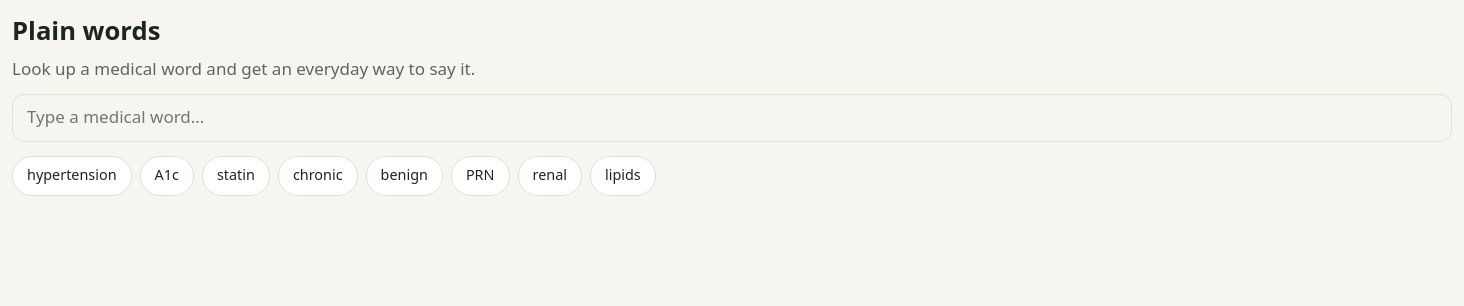
Test: Plain words lookup › a misspelled word finds the dictionary entry, without asking the server
Step 1. Type "hypertention" into the search field with placeholder "Type a medical word…" → point(732, 118), box top-left (12, 94), bottom-right (1452, 142)
Wait 1000 ms
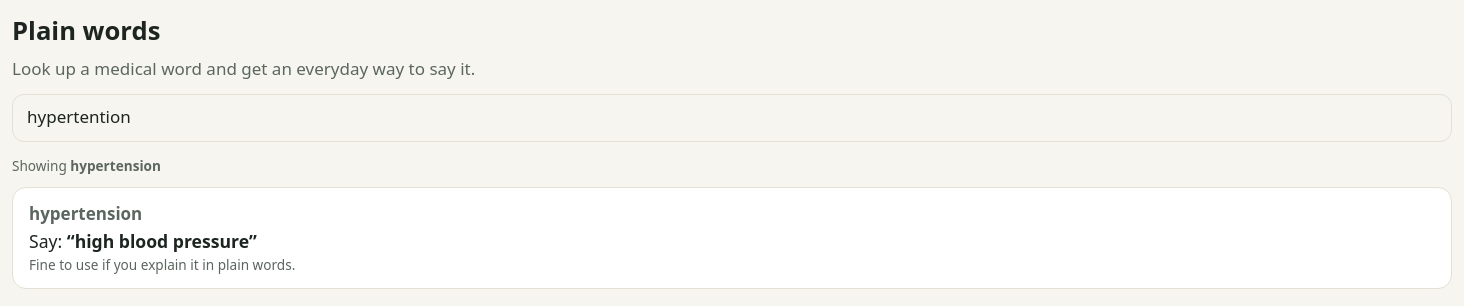
Expected: the text "hypertension" next to "Showing" is shown, top-left (70, 156), bottom-right (161, 175)
Expected: the text "“high blood pressure”" is shown, top-left (67, 229), bottom-right (257, 253)
